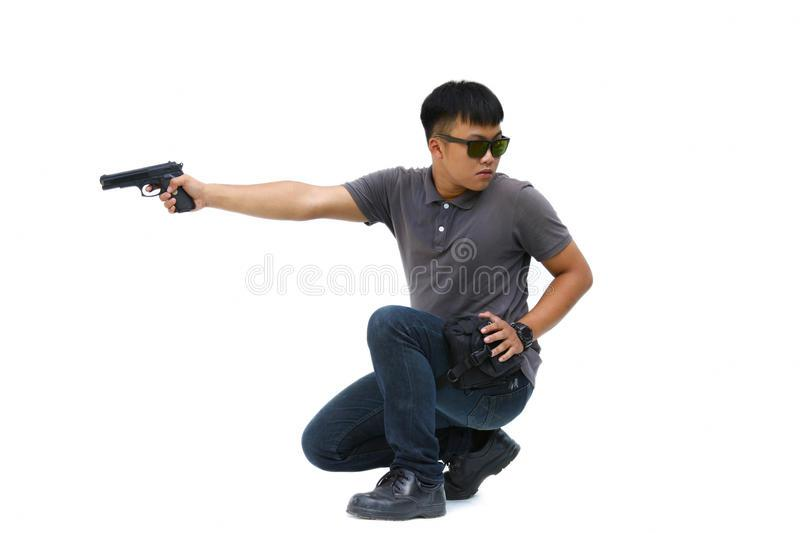criminal: (97, 76, 595, 523)
weapon: (98, 158, 200, 216)
